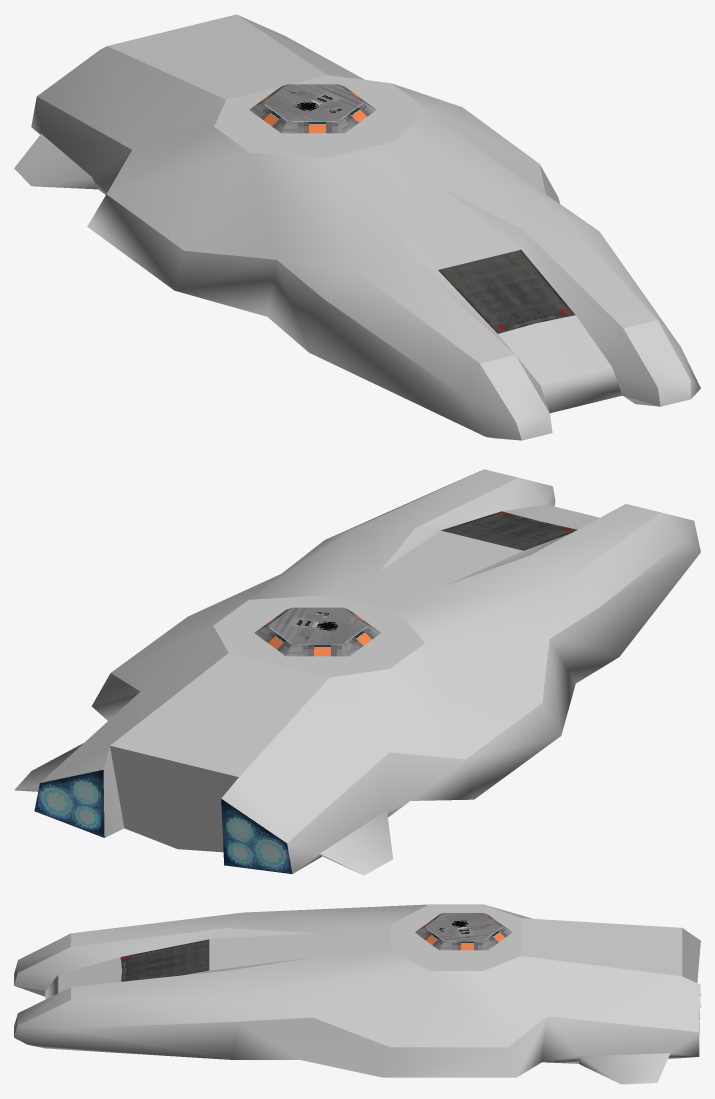
3 renders of one model, top to bottom at view 1: azimuth 30°, elevation 25°; view 2: azimuth 150°, elevation 25°; view 3: azimuth 270°, elevation 25°, orthographic. The views are drawn at different scales.
Visible parts, largest first — view 1: FrontUV, Badge0_MAT, TurretUV; view 2: FrontUV, Burner, TurretUV, Badge0_MAT; view 3: FrontUV, TurretUV, Badge0_MAT.
Boxes of the visible parts, x1,y1,x2,y2 form: FrontUV: (14, 14, 700, 440); Badge0_MAT: (438, 250, 575, 333); TurretUV: (249, 84, 376, 133); FrontUV: (14, 469, 700, 875); Burner: (34, 770, 292, 873); TurretUV: (254, 607, 380, 656); Badge0_MAT: (441, 511, 577, 550); FrontUV: (14, 904, 700, 1084); TurretUV: (415, 913, 512, 950); Badge0_MAT: (120, 939, 209, 981).
Bounding box in the file's own units: 18.1 × 7.04 × 36.56.
